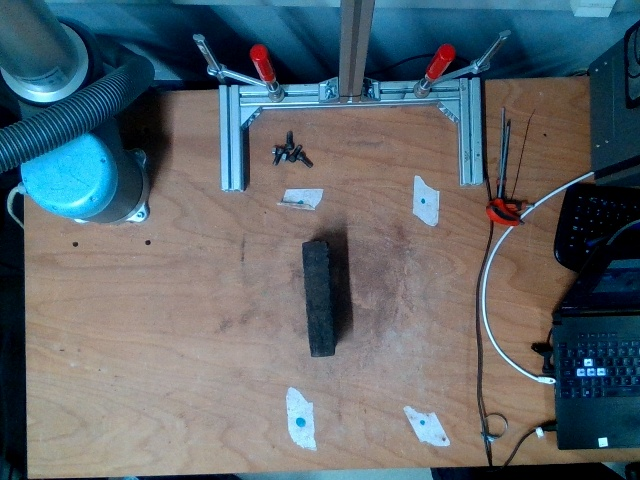brick-side: (301, 242, 336, 355)
